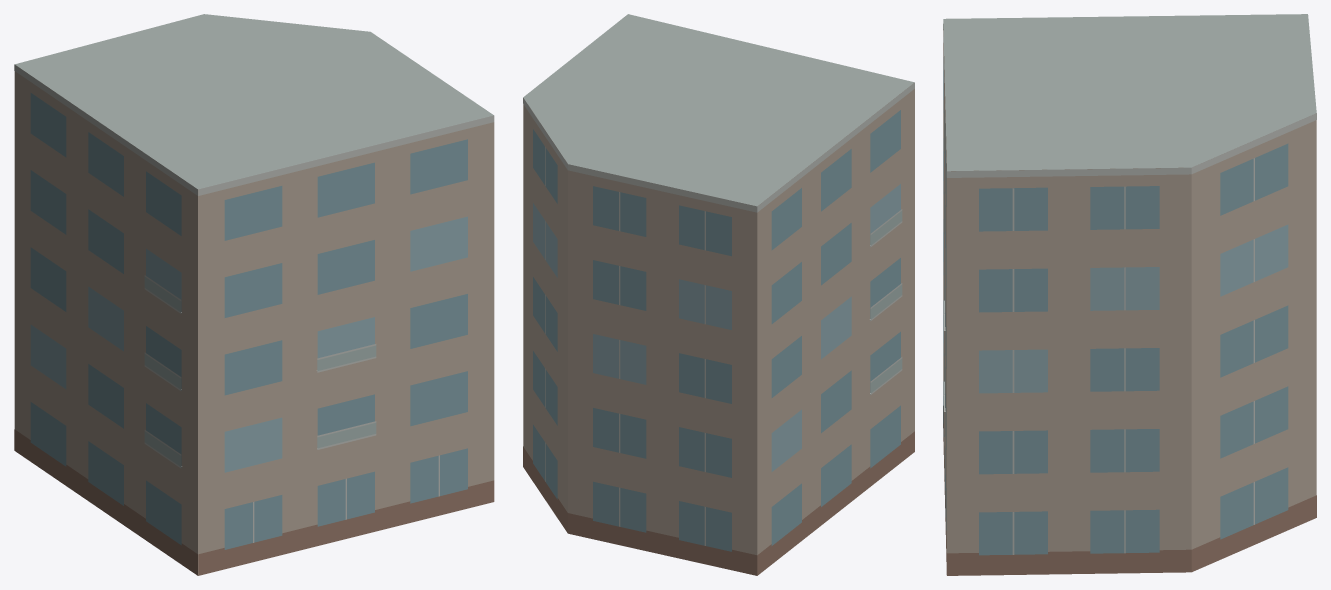
The model's file is survey-upis-33004097.glb.
The picture shows the model from 3 angles, left to right: view 1: azimuth 30°, elevation 25°; view 2: azimuth 150°, elevation 25°; view 3: azimuth 270°, elevation 25°; orthographic projection. The views are drawn at different scales.
Parts seen in each view (by area): view 1: survey-upis-33004097.tmp; view 2: survey-upis-33004097.tmp; view 3: survey-upis-33004097.tmp.
Part boxes in pixels (<box>): survey-upis-33004097.tmp: <box>14,14,494,575</box>; survey-upis-33004097.tmp: <box>523,14,914,575</box>; survey-upis-33004097.tmp: <box>943,14,1316,575</box>.
Bounding box in the file's own units: 12 × 14.4 × 12.06.
